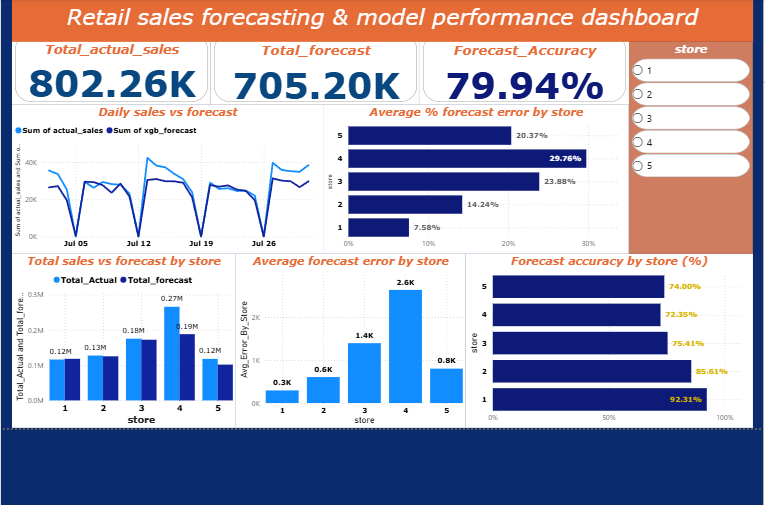

This screenshot's page, from the dashboard's own definition file:
{"tool":"powerbi","page":{"name":"Dashboard","canvas":[1280,720],"ordinal":3},"visuals":[{"type":"cardVisual","fields":{"Data":["store_forecasts.Total_actual_sales"]},"box":[18.5,53.8,334.3,124.3],"z":0},{"type":"cardVisual","fields":{"Data":["store_forecasts.Total_forecast"]},"box":[352.8,53.8,351.1,124.3],"z":1},{"type":"cardVisual","fields":{"Data":["store_forecasts.Forecast_Accuracy"]},"box":[703.8,53.8,351.1,124.3],"z":4},{"type":"clusteredColumnChart","title":"Total sales vs forecast by store","fields":{"Category":["store_forecasts.store"],"Y":["store_forecasts.Total_Actual","store_forecasts.Total_forecast"]},"box":[18.5,428.3,376.3,292.3],"z":7},{"type":"clusteredColumnChart","title":"Average forecast error by store","fields":{"Category":["store_forecasts.store"],"Y":["store_forecasts.Avg_Error_By_Store"]},"box":[394.8,428.3,386.4,292.3],"z":8},{"type":"lineChart","title":"Daily sales vs forecast ","fields":{"Category":["store_forecasts.date"],"Y":["Sum(store_forecasts.actual_sales)","Sum(store_forecasts.xgb_forecast)"]},"box":[18.5,178.1,524.1,250.3],"z":9},{"type":"listSlicer","fields":{"Values":["store_forecasts.store"]},"box":[1054.9,72.2,208.3,356.1],"z":10},{"type":"barChart","title":"Average % forecast error by store","fields":{"Category":["store_forecasts.store"],"Y":["store_forecasts.Avg_Percent_Error (%)"]},"box":[542.6,178.1,512.3,250.3],"z":11},{"type":"clusteredBarChart","title":"Forecast accuracy by store (%)","fields":{"Category":["store_forecasts.store"],"Y":["store_forecasts.Forecast_Accuracy2"]},"box":[781.1,428.3,482.1,292.3],"z":12},{"type":"textbox","box":[18.5,0,1244.7,72.2],"z":13}]}

Visuals, with their boxes on the page's 1280x720 design canvas (x1, y1, x2, y2). These are canvas units, not pixel positions in the 765x505 screenshot, which may show the page scaled, cropped or inside an application window:
cardVisual - store_forecasts.Total_actual_sales: x1=18 y1=54 x2=353 y2=178
cardVisual - store_forecasts.Total_forecast: x1=353 y1=54 x2=704 y2=178
cardVisual - store_forecasts.Forecast_Accuracy: x1=704 y1=54 x2=1055 y2=178
"Total sales vs forecast by store" clusteredColumnChart: x1=18 y1=428 x2=395 y2=721
"Average forecast error by store" clusteredColumnChart: x1=395 y1=428 x2=781 y2=721
"Daily sales vs forecast " lineChart: x1=18 y1=178 x2=543 y2=428
listSlicer - store_forecasts.store: x1=1055 y1=72 x2=1263 y2=428
"Average % forecast error by store" barChart: x1=543 y1=178 x2=1055 y2=428
"Forecast accuracy by store (%)" clusteredBarChart: x1=781 y1=428 x2=1263 y2=721
textbox: x1=18 y1=0 x2=1263 y2=72
